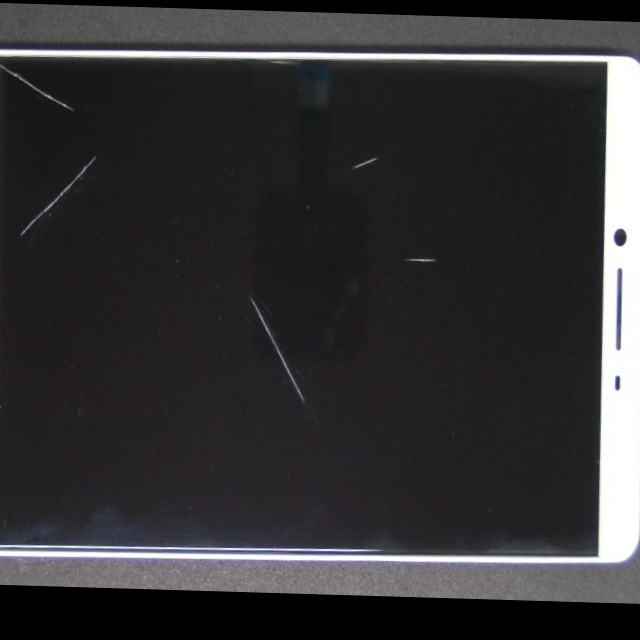scratch: (41, 80, 436, 504), (0, 12, 35, 113)
